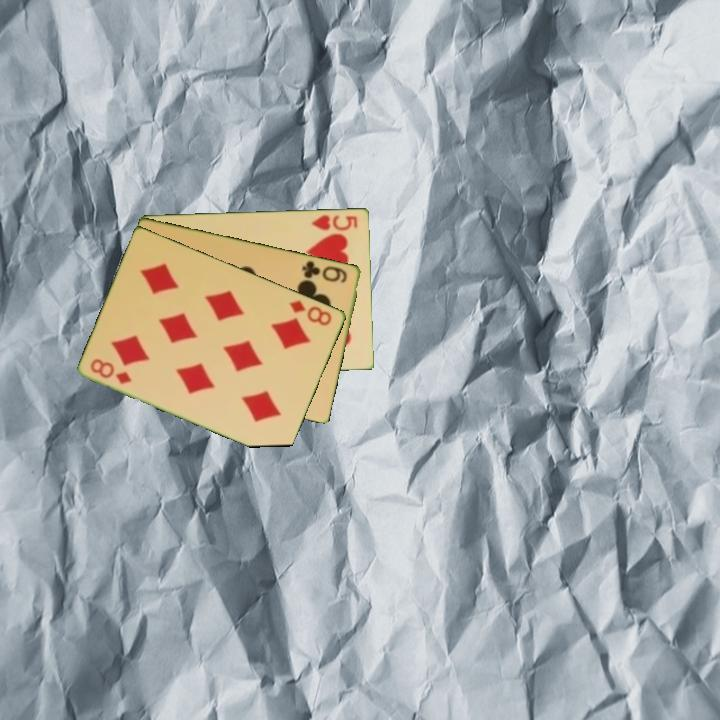5h: (308, 211, 360, 233)
6c: (299, 257, 350, 285)
8d: (286, 296, 335, 329), (87, 355, 135, 387)
